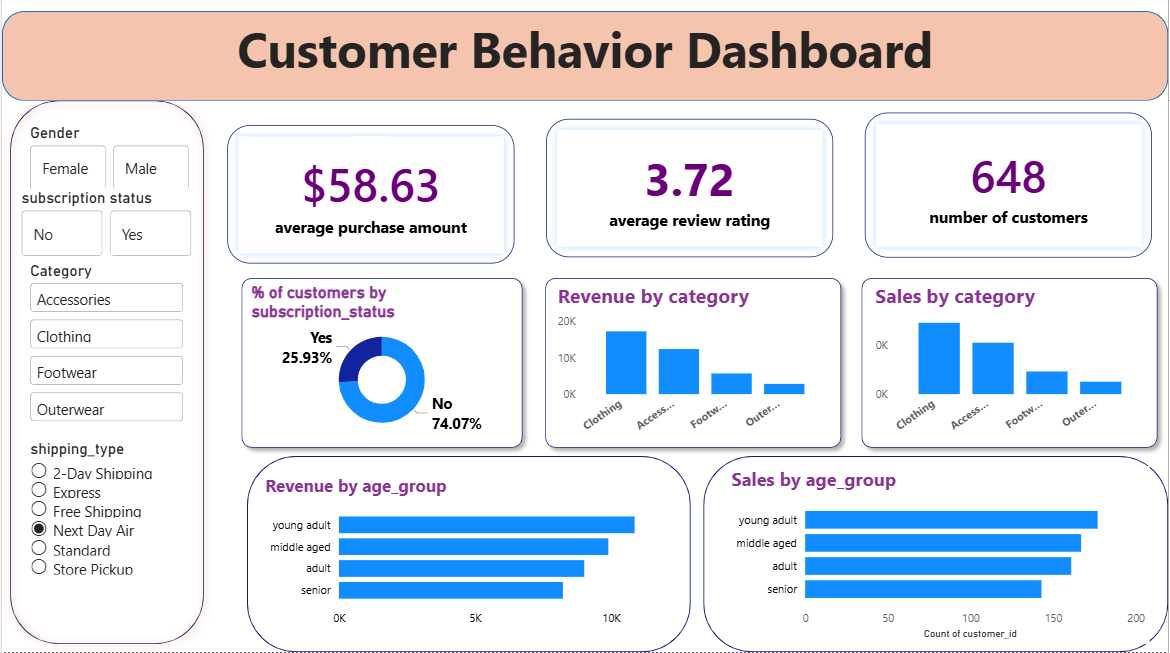

Layout of this report page (visuals, bound fields, positions):
{"tool":"powerbi","page":{"name":"Page 1","canvas":[1280,720],"ordinal":0},"visuals":[{"type":"cardVisual","fields":{"Data":["customer_behavior customers.average purchase amount"]},"box":[230.5,124.9,349.9,186.6],"z":0},{"type":"cardVisual","fields":{"Data":["customer_behavior customers.average review rating"]},"box":[580.4,118,349.9,186.6],"z":1000},{"type":"cardVisual","fields":{"Data":["customer_behavior customers.number of customers"]},"box":[930.4,111.1,349.9,193.5],"z":2000},{"type":"shape","box":[0,16.5,1280.3,98.8],"z":3000},{"type":"textbox","box":[0,16.5,1280.3,98.8],"z":4000},{"type":"shape","box":[253.9,300.5,326.6,204.5],"z":5000},{"type":"donutChart","title":"% of customers by subscription_status","fields":{"Y":["CountNonNull(customer_behavior customers.customer_id)"],"Category":["customer_behavior customers.subscription_status"]},"box":[269,314.2,296.4,172.9],"z":6000},{"type":"shape","box":[587.3,300.5,343.1,204.5],"z":7000},{"type":"shape","box":[934.5,300.5,343.1,204.5],"z":8000},{"type":"clusteredColumnChart","title":"Revenue by category","fields":{"Category":["customer_behavior customers.category"],"Y":["Sum(customer_behavior customers.purchase_amount)"]},"box":[605.1,314.2,306,177],"z":9000},{"type":"clusteredColumnChart","title":"Sales by category","fields":{"Y":["CountNonNull(customer_behavior customers.customer_id)"],"Category":["customer_behavior customers.category"]},"box":[953.7,314.2,306,177],"z":10000},{"type":"shape","box":[0,105.7,230.5,614.8],"z":11000},{"type":"advancedSlicerVisual","fields":{"Values":["customer_behavior customers.gender"]},"box":[16.5,137.2,197.6,81],"z":12000},{"type":"advancedSlicerVisual","fields":{"Values":["customer_behavior customers.subscription_status"]},"box":[16.5,211.3,197.6,79.6],"z":13000},{"type":"advancedSlicerVisual","fields":{"Values":["customer_behavior customers.category"]},"box":[26.1,290.9,178.4,183.9],"z":14000},{"type":"listSlicer","fields":{"Values":["customer_behavior customers.shipping_type"]},"box":[19.2,487.1,190.7,204.5],"z":15000},{"type":"clusteredBarChart","title":"Revenue by age_group","fields":{"Category":["customer_behavior customers.age_group"],"Y":["Sum(customer_behavior customers.purchase_amount)"]},"box":[284,524.2,459.7,177],"z":16000},{"type":"shape","box":[269,505,487.1,215.4],"z":17000},{"type":"shape","box":[769.8,505,510.5,215.4],"z":18000},{"type":"clusteredBarChart","title":"Sales by age_group","fields":{"Category":["customer_behavior customers.age_group"],"Y":["CountNonNull(customer_behavior customers.customer_id)"]},"box":[795.9,516,463.8,194.9],"z":19000}]}

Visuals, with their boxes in screenshot pixels (x1, y1, x2, y2), scaled from the page's 1280x720 canvas onto the 1170x653 screenshot:
cardVisual - customer_behavior customers.average purchase amount: <region>211, 113, 531, 283</region>
cardVisual - customer_behavior customers.average review rating: <region>531, 107, 850, 276</region>
cardVisual - customer_behavior customers.number of customers: <region>850, 101, 1169, 276</region>
shape: <region>0, 15, 1169, 105</region>
textbox: <region>0, 15, 1169, 105</region>
shape: <region>232, 273, 531, 458</region>
"% of customers by subscription_status" donutChart: <region>246, 285, 517, 442</region>
shape: <region>537, 273, 850, 458</region>
shape: <region>854, 273, 1168, 458</region>
"Revenue by category" clusteredColumnChart: <region>553, 285, 833, 445</region>
"Sales by category" clusteredColumnChart: <region>872, 285, 1151, 445</region>
shape: <region>0, 96, 211, 652</region>
advancedSlicerVisual - customer_behavior customers.gender: <region>15, 124, 196, 198</region>
advancedSlicerVisual - customer_behavior customers.subscription_status: <region>15, 192, 196, 264</region>
advancedSlicerVisual - customer_behavior customers.category: <region>24, 264, 187, 431</region>
listSlicer - customer_behavior customers.shipping_type: <region>18, 442, 192, 627</region>
"Revenue by age_group" clusteredBarChart: <region>260, 475, 680, 636</region>
shape: <region>246, 458, 691, 652</region>
shape: <region>704, 458, 1169, 652</region>
"Sales by age_group" clusteredBarChart: <region>728, 468, 1151, 645</region>
